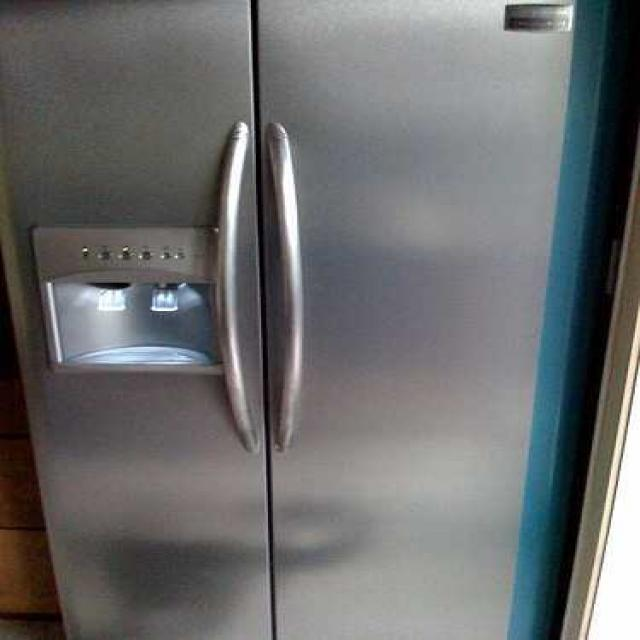refrigerator: (0, 0, 610, 640)
